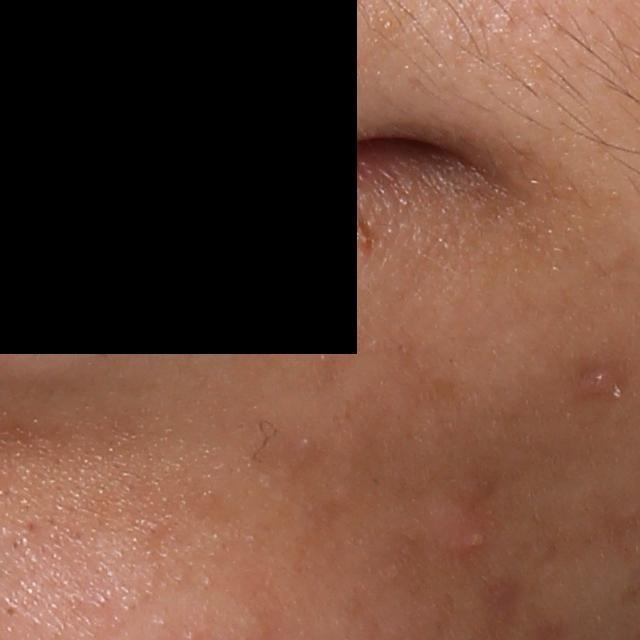papule: (580, 370, 620, 397)
